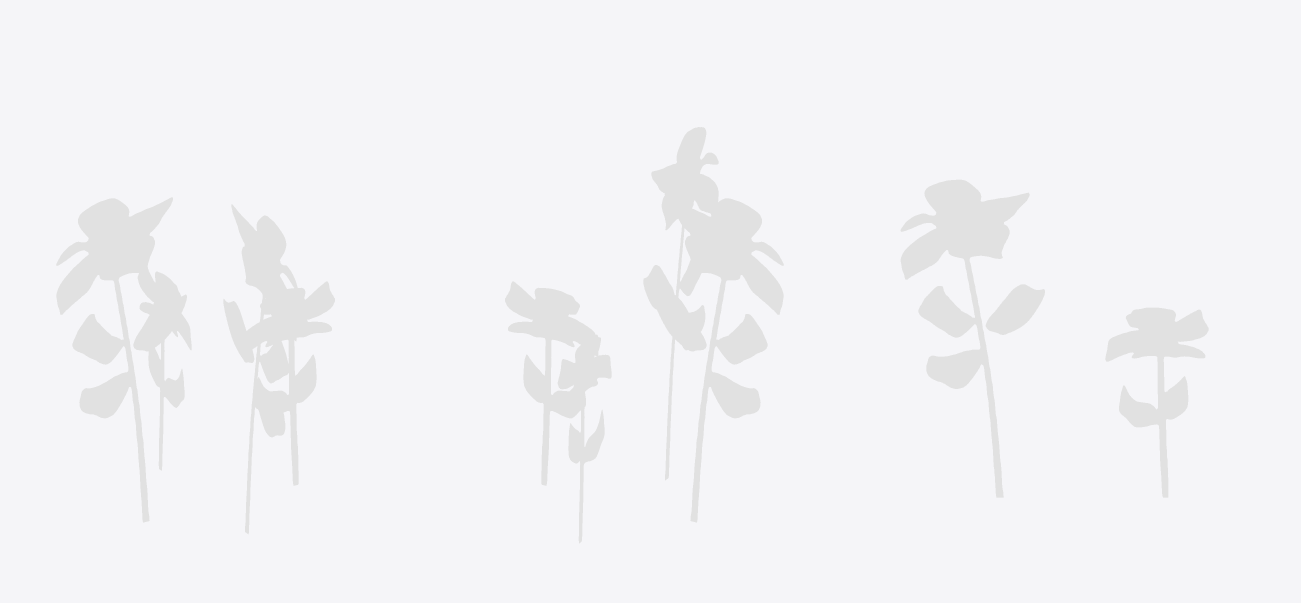
Rendered from SmallFlowers.fbx.
3 views of the same model, side by side, from view 1: azimuth 30°, elevation 25°; view 2: azimuth 150°, elevation 25°; view 3: azimuth 270°, elevation 25° (orthographic). The views are drawn at different scales.
Parts seen in each view (by area): view 1: SmallFlowers; view 2: SmallFlowers; view 3: SmallFlowers.
Part boxes in pixels (x1,y1,x2,y2): SmallFlowers: (56, 197, 334, 534); SmallFlowers: (505, 127, 783, 543); SmallFlowers: (900, 179, 1208, 497).
Bounding box in the file's own units: 28.59 × 28.59 × 28.59.
